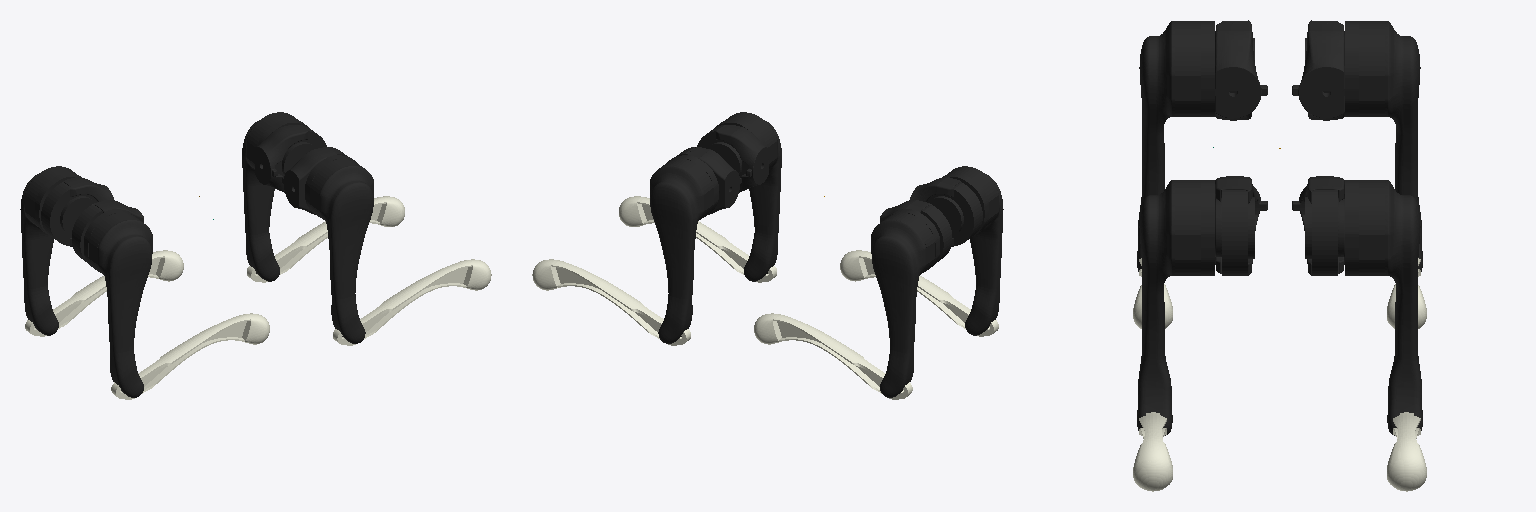
--- What the picture shows (computed from the rendered views, not written in the file) ---
The picture shows the robot from 3 angles, left to right: view 1: azimuth 30°, elevation 25°; view 2: azimuth 150°, elevation 25°; view 3: azimuth 270°, elevation 25°; orthographic projection.
Robot: go1_description — 38 links, 37 joints (12 revolute, 25 fixed); root link base; default pose: joints at zero except 4 at the middle of their limits (FR_calf_joint = -1.78, FL_calf_joint = -1.78, RR_calf_joint = -1.78, RL_calf_joint = -1.78).
Links seen in each view (by area): view 1: RR_thigh, FR_thigh, RL_thigh, FL_thigh, RR_calf, FR_calf, FL_hip, RL_hip, RL_calf, FL_calf, FR_hip, RR_hip; view 2: RL_thigh, FL_thigh, RR_thigh, FR_thigh, RL_calf, FL_calf, FR_hip, RR_hip, RR_calf, FR_calf, FL_hip, RL_hip; view 3: FR_thigh, FL_thigh, RR_thigh, RL_thigh, FR_hip, FL_hip, RR_hip, RL_hip, FR_calf, FL_calf, RR_calf, RL_calf.
Link boxes in pixels (x1,y1,x2,y2): RR_thigh: (84, 209, 152, 397); FR_thigh: (305, 155, 373, 343); RL_thigh: (20, 166, 81, 335); FL_thigh: (242, 112, 308, 281); RR_calf: (111, 313, 269, 399); FR_calf: (333, 259, 491, 345); FL_hip: (255, 125, 326, 192); RL_hip: (41, 177, 114, 246); RL_calf: (25, 250, 183, 336); FL_calf: (247, 196, 404, 282); FR_hip: (282, 147, 347, 214); RR_hip: (72, 200, 143, 262); RL_thigh: (871, 209, 939, 397); FL_thigh: (650, 155, 718, 343); RR_thigh: (942, 166, 1003, 335); FR_thigh: (715, 112, 781, 281); RL_calf: (754, 313, 912, 399); FL_calf: (532, 259, 690, 345); FR_hip: (697, 125, 768, 192); RR_hip: (909, 177, 982, 246); RR_calf: (840, 250, 998, 336); FR_calf: (619, 196, 776, 282); FL_hip: (676, 147, 741, 214); RL_hip: (880, 200, 951, 262); FR_thigh: (1137, 180, 1214, 435); FL_thigh: (1345, 180, 1422, 435); RR_thigh: (1137, 21, 1214, 271); RL_thigh: (1345, 21, 1422, 271); FR_hip: (1215, 176, 1267, 275); FL_hip: (1292, 176, 1344, 275); RR_hip: (1215, 20, 1267, 120); RL_hip: (1292, 20, 1344, 120); FR_calf: (1133, 412, 1172, 491); FL_calf: (1387, 412, 1426, 491); RR_calf: (1133, 258, 1172, 328); RL_calf: (1387, 258, 1426, 328).
Size in the robot's own frame: 0.6549 by 0.294 by 0.2793 metres.
Meshes: 6 distinct files referenced, 12 mesh visuals loaded (3 binary STL); not drawn: 9 (reference not matched to a file when rendering).

robot.urdf — go1_description:
<?xml version="1.0" ?>
<!-- =================================================================================== -->
<!-- |    This document was autogenerated by xacro from robot.xacro                    | -->
<!-- |    EDITING THIS FILE BY HAND IS NOT RECOMMENDED                                 | -->
<!-- =================================================================================== -->
<robot name="go1_description" xmlns:xacro="http://www.ros.org/wiki/xacro">
  <material name="black">
    <color rgba="0.0 0.0 0.0 1.0"/>
  </material>
  <material name="blue">
    <color rgba="0.0 0.0 0.8 1.0"/>
  </material>
  <material name="green">
    <color rgba="0.0 0.8 0.0 1.0"/>
  </material>
  <material name="grey">
    <color rgba="0.2 0.2 0.2 1.0"/>
  </material>
  <material name="silver">
    <color rgba="0.913725490196 0.913725490196 0.847058823529 1.0"/>
  </material>
  <material name="orange">
    <color rgba="1.0 0.423529411765 0.0392156862745 1.0"/>
  </material>
  <material name="brown">
    <color rgba="0.870588235294 0.811764705882 0.764705882353 1.0"/>
  </material>
  <material name="red">
    <color rgba="0.8 0.0 0.0 1.0"/>
  </material>
  <material name="white">
    <color rgba="1.0 1.0 1.0 1.0"/>
  </material>
  <!-- ros_control plugin -->
  <gazebo>
    <plugin filename="libgazebo_ros_control.so" name="gazebo_ros_control">
      <robotNamespace>/go1_gazebo</robotNamespace>
      <robotSimType>gazebo_ros_control/DefaultRobotHWSim</robotSimType>
    </plugin>
  </gazebo>
  <!-- Show the trajectory of trunk center. -->
  <gazebo>
    <plugin filename="libLinkPlot3DPlugin.so" name="3dplot">
      <frequency>10</frequency>
      <plot>
        <link>base</link>
        <pose>0 0 0 0 0 0</pose>
        <material>Gazebo/Yellow</material>
      </plot>
    </plugin>
  </gazebo>
  <!-- Show the trajectory of foot. You can add another trajectory about another foot. -->
  <!-- <gazebo>
        <plugin name="3dplot" filename="libLinkPlot3DPlugin.so">
            <frequency>100</frequency>
            <plot>
                <link>FL_foot</link>
                <pose>0 0 0 0 0 0</pose>
                <material>Gazebo/Green</material>
            </plot>
        </plugin>
    </gazebo> -->
  <gazebo>
    <plugin filename="libgazebo_ros_force.so" name="gazebo_ros_force">
      <bodyName>trunk</bodyName>
      <topicName>/apply_force/trunk</topicName>
    </plugin>
  </gazebo>
  <gazebo reference="imu_link">
    <gravity>true</gravity>
    <sensor name="imu_sensor" type="imu">
      <always_on>true</always_on>
      <update_rate>1000</update_rate>
      <visualize>true</visualize>
      <topic>__default_topic__</topic>
      <plugin filename="libgazebo_ros_imu_sensor.so" name="imu_plugin">
        <topicName>trunk_imu</topicName>
        <bodyName>imu_link</bodyName>
        <updateRateHZ>1000.0</updateRateHZ>
        <gaussianNoise>0.0</gaussianNoise>
        <xyzOffset>0 0 0</xyzOffset>
        <rpyOffset>0 0 0</rpyOffset>
        <frameName>imu_link</frameName>
      </plugin>
      <pose>0 0 0 0 0 0</pose>
    </sensor>
  </gazebo>
  <!-- Depth camera -->
  <!-- <gazebo>
        <plugin name="camera_plugin" filename="libgazebo_ros_openni_kinect.so">
            <baseline>0.025</baseline>
            <always_on>true</always_on>
            <updateRate>0.0</updateRate>
            <cameraName>unitree_camera_left</cameraName>
            <frameName>depthCamera_link_left</frameName>
            <imageTopicName>rgb/imageRaw_left</imageTopicName>
            <depthImageTopicName>depth/imageRaw_left</depthImageTopicName>
            <pointCloudTopicName>depth/points_left</pointCloudTopicName>
            <cameraInfoTopicName>rgb/cameraInfo_left</cameraInfoTopicName>              
            <depthImageCameraInfoTopicName>depth/cameraInfo_left</depthImageCameraInfoTopicName>            
            <pointCloudCutoff>0.1</pointCloudCutoff>                
            <pointCloudCutoffMax>1.5</pointCloudCutoffMax>                
            <distortionK1>0.0</distortionK1>
            <distortionK2>0.0</distortionK2>
            <distortionK3>0.0</distortionK3>
            <distortionT1>0.0</distortionT1>
            <distortionT2>0.0</distortionT2>
            <CxPrime>0.0</CxPrime>
            <Cx>0.0045</Cx>
            <Cy>0.0039</Cy>
            <focalLength>0.004</focalLength>
            <hackBaseline>0.0</hackBaseline>
        </plugin>
    </gazebo> -->
  <!-- <gazebo reference="depthCamera_link_left">
        <sensor name="unitree_camera_left" type="depth_camera">
            <update_rate>16</update_rate>
            <always_on>true</always_on>
            <visualize>true</visualize>
            <camera>
                <horizontal_fov>2.094</horizontal_fov>
                <image>
                    <width>928</width>
                    <height>800</height>
                    <format>R8G8B8</format>
                </image>
                <depth_camera></depth_camera>
                <clip>
                    <near>0.1</near>
                    <far>100</far>
                </clip>
            </camera>
            <plugin name="camera_plugin" filename="libgazebo_ros_openni_kinect.so">
                <baseline>0.025</baseline>
                <always_on>true</always_on>
                <updateRate>0.0</updateRate>
                <cameraName>unitree_camera_left</cameraName>
                <frameName>depthCamera_link_left</frameName>
                <imageTopicName>rgb/imageRaw_left</imageTopicName>
                <depthImageTopicName>depth/imageRaw_left</depthImageTopicName>
                <pointCloudTopicName>depth/points_left</pointCloudTopicName>
                <cameraInfoTopicName>rgb/cameraInfo_left</cameraInfoTopicName>              
                <depthImageCameraInfoTopicName>depth/cameraInfo_left</depthImageCameraInfoTopicName>            
                <pointCloudCutoff>0.1</pointCloudCutoff>                
                <pointCloudCutoffMax>1.5</pointCloudCutoffMax>                
                <distortionK1>0.0</distortionK1>
                <distortionK2>0.0</distortionK2>
                <distortionK3>0.0</distortionK3>
                <distortionT1>0.0</distortionT1>
                <distortionT2>0.0</distortionT2>
                <CxPrime>0.0</CxPrime>
                <Cx>0.0045</Cx>
                <Cy>0.0039</Cy>
                <focalLength>0.004</focalLength>
                <hackBaseline>0.0</hackBaseline>
            </plugin>
        </sensor>
    </gazebo> -->
  <gazebo reference="depthCamera_link_left">
    <sensor name="camera_link_camera" type="depth">
      <update_rate>20</update_rate>
      <camera>
        <horizontal_fov>1.047198</horizontal_fov>
        <image>
          <width>640</width>
          <height>480</height>
          <format>R8G8B8</format>
        </image>
        <clip>
          <near>0.05</near>
          <far>3</far>
        </clip>
      </camera>
      <plugin filename="libgazebo_ros_openni_kinect.so" name="camera_link_controller">
        <baseline>0.2</baseline>
        <alwaysOn>true</alwaysOn>
        <updateRate>1.0</updateRate>
        <cameraName>camera_link_ir</cameraName>
        <imageTopicName>/camera_link/color/image_raw</imageTopicName>
        <cameraInfoTopicName>/camera_link/color/camera_info</cameraInfoTopicName>
        <depthImageTopicName>/camera_link/depth/image_raw</depthImageTopicName>
        <depthImageInfoTopicName>/camera_link/depth/camera_info</depthImageInfoTopicName>
        <pointCloudTopicName>/camera_link/depth/points</pointCloudTopicName>
        <frameName>depthCamera_link_left</frameName>
        <pointCloudCutoff>0.5</pointCloudCutoff>
        <pointCloudCutoffMax>3.0</pointCloudCutoffMax>
        <distortionK1>0.00000001</distortionK1>
        <distortionK2>0.00000001</distortionK2>
        <distortionK3>0.00000001</distortionK3>
        <distortionT1>0.00000001</distortionT1>
        <distortionT2>0.00000001</distortionT2>
        <CxPrime>0</CxPrime>
        <Cx>0</Cx>
        <Cy>0</Cy>
        <focalLength>0</focalLength>
        <hackBaseline>0</hackBaseline>
      </plugin>
    </sensor>
  </gazebo>
  <!-- Foot contacts. -->
  <gazebo reference="FR_calf">
    <sensor name="FR_foot_contact" type="contact">
      <update_rate>100</update_rate>
      <plugin filename="libunitreeFootContactPlugin.so" name="contactPlugin"/>
      <contact>
        <collision>FR_calf_fixed_joint_lump__FR_foot_collision_1</collision>
      </contact>
    </sensor>
  </gazebo>
  <gazebo reference="FL_calf">
    <sensor name="FL_foot_contact" type="contact">
      <update_rate>100</update_rate>
      <plugin filename="libunitreeFootContactPlugin.so" name="contactPlugin"/>
      <contact>
        <collision>FL_calf_fixed_joint_lump__FL_foot_collision_1</collision>
      </contact>
    </sensor>
  </gazebo>
  <gazebo reference="RR_calf">
    <sensor name="RR_foot_contact" type="contact">
      <update_rate>100</update_rate>
      <plugin filename="libunitreeFootContactPlugin.so" name="contactPlugin"/>
      <contact>
        <collision>RR_calf_fixed_joint_lump__RR_foot_collision_1</collision>
      </contact>
    </sensor>
  </gazebo>
  <gazebo reference="RL_calf">
    <sensor name="RL_foot_contact" type="contact">
      <update_rate>100</update_rate>
      <plugin filename="libunitreeFootContactPlugin.so" name="contactPlugin"/>
      <contact>
        <collision>RL_calf_fixed_joint_lump__RL_foot_collision_1</collision>
      </contact>
    </sensor>
  </gazebo>
  <!-- Visualization of Foot contacts. -->
  <gazebo reference="FR_foot">
    <visual>
      <plugin filename="libunitreeDrawForcePlugin.so" name="drawForcePlugin">
        <topicName>FR_foot_contact</topicName>
      </plugin>
    </visual>
  </gazebo>
  <gazebo reference="FL_foot">
    <visual>
      <plugin filename="libunitreeDrawForcePlugin.so" name="drawForcePlugin">
        <topicName>FL_foot_contact</topicName>
      </plugin>
    </visual>
  </gazebo>
  <gazebo reference="RR_foot">
    <visual>
      <plugin filename="libunitreeDrawForcePlugin.so" name="drawForcePlugin">
        <topicName>RR_foot_contact</topicName>
      </plugin>
    </visual>
  </gazebo>
  <gazebo reference="RL_foot">
    <visual>
      <plugin filename="libunitreeDrawForcePlugin.so" name="drawForcePlugin">
        <topicName>RL_foot_contact</topicName>
      </plugin>
    </visual>
  </gazebo>
  <gazebo reference="base">
    <material>Gazebo/Green</material>
    <turnGravityOff>false</turnGravityOff>
  </gazebo>
  <gazebo reference="trunk">
    <mu1>0.2</mu1>
    <mu2>0.2</mu2>
    <kp value="1000000.0"/>
    <kd value="1.0"/>
  </gazebo>
  <gazebo reference="stick_link">
    <mu1>0.2</mu1>
    <mu2>0.2</mu2>
    <material>Gazebo/White</material>
  </gazebo>
  <gazebo reference="imu_link">
    <mu1>0.2</mu1>
    <mu2>0.2</mu2>
    <material>Gazebo/Red</material>
  </gazebo>
  <!-- FL leg -->
  <gazebo reference="FL_hip">
    <mu1>0.2</mu1>
    <mu2>0.2</mu2>
    <material>Gazebo/DarkGrey</material>
  </gazebo>
  <gazebo reference="FL_thigh">
    <mu1>0.2</mu1>
    <mu2>0.2</mu2>
    <self_collide>1</self_collide>
    <material>Gazebo/DarkGrey</material>
    <kp value="1000000.0"/>
    <kd value="1.0"/>
  </gazebo>
  <gazebo reference="FL_calf">
    <mu1>0.2</mu1>
    <mu2>0.2</mu2>
    <self_collide>1</self_collide>
  </gazebo>
  <gazebo reference="FL_foot">
    <mu1>0.6</mu1>
    <mu2>0.6</mu2>
    <self_collide>1</self_collide>
    <material>Gazebo/DarkGrey</material>
    <kp value="1000000.0"/>
    <kd value="1.0"/>
  </gazebo>
  <!-- FR leg -->
  <gazebo reference="FR_hip">
    <mu1>0.2</mu1>
    <mu2>0.2</mu2>
    <material>Gazebo/DarkGrey</material>
  </gazebo>
  <gazebo reference="FR_thigh">
    <mu1>0.2</mu1>
    <mu2>0.2</mu2>
    <self_collide>1</self_collide>
    <material>Gazebo/DarkGrey</material>
    <kp value="1000000.0"/>
    <kd value="1.0"/>
  </gazebo>
  <gazebo reference="FR_calf">
    <mu1>0.2</mu1>
    <mu2>0.2</mu2>
    <self_collide>1</self_collide>
  </gazebo>
  <gazebo reference="FR_foot">
    <mu1>0.6</mu1>
    <mu2>0.6</mu2>
    <self_collide>1</self_collide>
    <material>Gazebo/DarkGrey</material>
    <kp value="1000000.0"/>
    <kd value="1.0"/>
  </gazebo>
  <!-- RL leg -->
  <gazebo reference="RL_hip">
    <mu1>0.2</mu1>
    <mu2>0.2</mu2>
    <material>Gazebo/DarkGrey</material>
  </gazebo>
  <gazebo reference="RL_thigh">
    <mu1>0.2</mu1>
    <mu2>0.2</mu2>
    <self_collide>1</self_collide>
    <material>Gazebo/DarkGrey</material>
    <kp value="1000000.0"/>
    <kd value="1.0"/>
  </gazebo>
  <gazebo reference="RL_calf">
    <mu1>0.2</mu1>
    <mu2>0.2</mu2>
    <self_collide>1</self_collide>
  </gazebo>
  <gazebo reference="RL_foot">
    <mu1>0.6</mu1>
    <mu2>0.6</mu2>
    <self_collide>1</self_collide>
    <material>Gazebo/DarkGrey</material>
    <kp value="1000000.0"/>
    <kd value="1.0"/>
  </gazebo>
  <!-- RR leg -->
  <gazebo reference="RR_hip">
    <mu1>0.2</mu1>
    <mu2>0.2</mu2>
    <material>Gazebo/DarkGrey</material>
  </gazebo>
  <gazebo reference="RR_thigh">
    <mu1>0.2</mu1>
    <mu2>0.2</mu2>
    <self_collide>1</self_collide>
    <material>Gazebo/DarkGrey</material>
    <kp value="1000000.0"/>
    <kd value="1.0"/>
  </gazebo>
  <gazebo reference="RR_calf">
    <mu1>0.2</mu1>
    <mu2>0.2</mu2>
    <self_collide>1</self_collide>
  </gazebo>
  <gazebo reference="RR_foot">
    <mu1>0.6</mu1>
    <mu2>0.6</mu2>
    <self_collide>1</self_collide>
    <material>Gazebo/DarkGrey</material>
    <kp value="1000000.0"/>
    <kd value="1.0"/>
  </gazebo>
  <!-- <xacro:include filename="$(find go1_gazebo)/launch/stairs.urdf.xacro"/> -->
  <!-- <xacro:stairs stairs="15" xpos="0" ypos="0" zpos="0" /> -->
  <!-- Debug mode will hung up the robot, use "true" or "false" to switch it. -->
  <!-- <xacro:if value="$(arg DEBUG)">
        <link name="world"/>
        <joint name="base_static_joint" type="fixed">
            <origin rpy="0 0 0" xyz="0 0 0"/>
            <parent link="world"/>
            <child link="base"/>
        </joint>
    </xacro:if>  -->
  <link name="base">
    <visual>
      <origin rpy="0 0 0" xyz="0 0 0"/>
      <geometry>
        <box size="0.001 0.001 0.001"/>
      </geometry>
    </visual>
  </link>
  <joint name="floating_base" type="fixed">
    <origin rpy="0 0 0" xyz="0 0 0"/>
    <parent link="base"/>
    <child link="trunk"/>
  </joint>
  <link name="trunk">
    <visual>
      <origin rpy="0 0 0" xyz="0 0 0"/>
      <geometry>
        <mesh filename="package://meshes/trunk.stl" scale="1 1 1"/>
      </geometry>
      <material name="silver"/>
    </visual>
    <collision>
      <origin rpy="0 0 0" xyz="0 0 0"/>
      <geometry>
        <box size="0.3762 0.0935 0.114"/>
      </geometry>
    </collision>
    <inertial>
      <origin rpy="0 0 0" xyz="0.0223 0.002 -0.0005"/>
      <mass value="5.204"/>
      <inertia ixx="0.0168352186" ixy="0.0004636141" ixz="0.0002367952" iyy="0.0656071082" iyz="3.6671e-05" izz="0.0742720659"/>
    </inertial>
  </link>
  <joint name="imu_joint" type="fixed">
    <parent link="trunk"/>
    <child link="imu_link"/>
    <origin rpy="0 0 0" xyz="-0.01592 -0.06659 -0.00617"/>
  </joint>
  <link name="imu_link">
    <inertial>
      <mass value="0.001"/>
      <origin rpy="0 0 0" xyz="0 0 0"/>
      <inertia ixx="0.0001" ixy="0" ixz="0" iyy="0.0001" iyz="0" izz="0.0001"/>
    </inertial>
    <visual>
      <origin rpy="0 0 0" xyz="0 0 0"/>
      <geometry>
        <box size="0.001 0.001 0.001"/>
      </geometry>
      <!-- <material name="red"/> -->
    </visual>
    <collision>
      <origin rpy="0 0 0" xyz="0 0 0"/>
      <geometry>
        <box size=".001 .001 .001"/>
      </geometry>
    </collision>
  </link>
  <joint name="FR_hip_joint" type="revolute">
    <origin rpy="0 0 0" xyz="0.1881 -0.04675 0"/>
    <parent link="trunk"/>
    <child link="FR_hip"/>
    <axis xyz="1 0 0"/>
    <dynamics damping="0.01" friction="0.2"/>
    <limit effort="23.7" lower="-1.0471975512" upper="1.0471975512" velocity="30.1"/>
  </joint>
  <link name="FR_hip">
    <visual>
      <origin rpy="3.14159265359 0 0" xyz="0 0 0"/>
      <geometry>
        <mesh filename="package://meshes/hip.stl" scale="1 1 1"/>
      </geometry>
      <material name="grey"/>
    </visual>
    <collision>
      <origin rpy="1.57079632679 0 0" xyz="0 0 0"/>
      <geometry>
        <cylinder length="0.04" radius="0.046"/>
      </geometry>
    </collision>
    <inertial>
      <origin rpy="0 0 0" xyz="-0.00541 0.00074 6e-06"/>
      <mass value="0.591"/>
      <inertia ixx="0.000374268192" ixy="-3.6844422e-05" ixz="-9.86754e-07" iyy="0.000635923669" iyz="1.172894e-06" izz="0.000457647394"/>
    </inertial>
  </link>
  <joint name="FR_hip_fixed" type="fixed">
    <origin rpy="0 0 0" xyz="0 -0.08 0"/>
    <parent link="FR_hip"/>
    <child link="FR_thigh_shoulder"/>
  </joint>
  <!-- this link is only for collision -->
  <link name="FR_thigh_shoulder">
    <collision>
      <origin rpy="1.57079632679 0 0" xyz="0 0 0"/>
      <geometry>
        <cylinder length="0.032" radius="0.041"/>
      </geometry>
    </collision>
  </link>
  <joint name="FR_thigh_joint" type="revolute">
    <origin rpy="0 0 0" xyz="0 -0.08 0"/>
    <parent link="FR_hip"/>
    <child link="FR_thigh"/>
    <axis xyz="0 1 0"/>
    <dynamics damping="0.01" friction="0.2"/>
    <limit effort="23.7" lower="-0.663225115758" upper="2.96705972839" velocity="30.1"/>
  </joint>
  <link name="FR_thigh">
    <visual>
      <origin rpy="0 0 0" xyz="0 0 0"/>
      <geometry>
        <mesh filename="package://meshes/thigh.stl" scale="1 -1 1"/>
      </geometry>
      <material name="grey"/>
    </visual>
    <collision>
      <origin rpy="0 1.57079632679 0" xyz="0 0 -0.1065"/>
      <geometry>
        <box size="0.213 0.0245 0.034"/>
      </geometry>
    </collision>
    <inertial>
      <origin rpy="0 0 0" xyz="-0.003468 0.018947 -0.032736"/>
      <mass value="0.92"/>
      <inertia ixx="0.005851561134" ixy="-1.783284e-06" ixz="0.000328291374" iyy="0.005596155105" iyz="-2.1430713e-05" izz="0.00107157026"/>
    </inertial>
  </link>
  <joint name="FR_calf_joint" type="revolute">
    <origin rpy="0 0 0" xyz="0 0 -0.213"/>
    <parent link="FR_thigh"/>
    <child link="FR_calf"/>
    <axis xyz="0 1 0"/>
    <dynamics damping="0.01" friction="0.2"/>
    <limit effort="23.7" lower="-2.72271363311" upper="-0.837758040957" velocity="30.1"/>
  </joint>
  <link name="FR_calf">
    <visual>
      <origin rpy="0 0 0" xyz="0 0 0"/>
      <geometry>
        <mesh filename="package://meshes/calf.stl" scale="1 1 1"/>
      </geometry>
      <material name="silver"/>
    </visual>
    <collision>
      <origin rpy="0 1.57079632679 0" xyz="0 0 -0.1065"/>
      <geometry>
        <box size="0.213 0.016 0.016"/>
      </geometry>
    </collision>
    <inertial>
      <origin rpy="0 0 0" xyz="0.006286 0.001307 -0.122269"/>
      <mass value="0.131"/>
      <inertia ixx="0.002939186297" ixy="1.440899e-06" ixz="-0.00010535955" iyy="0.00295576935" iyz="-2.4397752e-05" izz="3.0273372e-05"/>
    </inertial>
  </link>
  <joint name="FR_foot_fixed" type="fixed">
    <origin rpy="0 0 0" xyz="0 0 -0.213"/>
    <parent link="FR_calf"/>
    <child link="FR_foot"/>
  </joint>
  <link name="FR_foot">
    <visual>
      <origin rpy="0 0 0" xyz="0 0 0"/>
      <geometry>
        <sphere radius="0.01"/>
      </geometry>
      <material name="orange"/>
    </visual>
    <collision>
      <origin rpy="0 0 0" xyz="0 0 0"/>
      <geometry>
        <sphere radius="0.02"/>
      </geometry>
    </collision>
    <inertial>
      <mass value="0.06"/>
      <inertia ixx="9.6e-06" ixy="0.0" ixz="0.0" iyy="9.6e-06" iyz="0.0" izz="9.6e-06"/>
    </inertial>
  </link>
  <transmission name="FR_hip_tran">
    <type>transmission_interface/SimpleTransmission</type>
    <joint name="FR_hip_joint">
      <hardwareInterface>hardware_interface/EffortJointInterface</hardwareInterface>
    </joint>
    <actuator name="FR_hip_motor">
      <hardwareInterface>hardware_interface/EffortJointInterface</hardwareInterface>
      <mechanicalReduction>1</mechanicalReduction>
    </actuator>
  </transmission>
  <transmission name="FR_thigh_tran">
    <type>transmission_interface/SimpleTransmission</type>
    <joint name="FR_thigh_joint">
      <hardwareInterface>hardware_interface/EffortJointInterface</hardwareInterface>
    </joint>
    <actuator name="FR_thigh_motor">
      <hardwareInterface>hardware_interface/EffortJointInterface</hardwareInterface>
      <mechanicalReduction>1</mechanicalReduction>
    </actuator>
  </transmission>
  <transmission name="FR_calf_tran">
    <type>transmission_interface/SimpleTransmission</type>
    <joint name="FR_calf_joint">
      <hardwareInterface>hardware_interface/EffortJointInterface</hardwareInterface>
    </joint>
    <actuator name="FR_calf_motor">
      <hardwareInterface>hardware_interface/EffortJointInterface</hardwareInterface>
      <mechanicalReduction>1</mechanicalReduction>
    </actuator>
  </transmission>
  <joint name="FL_hip_joint" type="revolute">
    <origin rpy="0 0 0" xyz="0.1881 0.04675 0"/>
    <parent link="trunk"/>
    <child link="FL_hip"/>
    <axis xyz="1 0 0"/>
    <dynamics damping="0.01" friction="0.2"/>
    <limit effort="23.7" lower="-1.0471975512" upper="1.0471975512" velocity="30.1"/>
  </joint>
  <link name="FL_hip">
    <visual>
      <origin rpy="0 0 0" xyz="0 0 0"/>
      <geometry>
        <mesh filename="package://meshes/hip.stl" scale="1 1 1"/>
      </geometry>
      <material name="grey"/>
    </visual>
    <collision>
      <origin rpy="1.57079632679 0 0" xyz="0 0 0"/>
      <geometry>
        <cylinder length="0.04" radius="0.046"/>
      </geometry>
    </collision>
    <inertial>
      <origin rpy="0 0 0" xyz="-0.00541 -0.00074 6e-06"/>
      <mass value="0.591"/>
      <inertia ixx="0.000374268192" ixy="3.6844422e-05" ixz="-9.86754e-07" iyy="0.000635923669" iyz="-1.172894e-06" izz="0.000457647394"/>
    </inertial>
  </link>
  <joint name="FL_hip_fixed" type="fixed">
    <origin rpy="0 0 0" xyz="0 0.08 0"/>
    <parent link="FL_hip"/>
    <child link="FL_thigh_shoulder"/>
  </joint>
  <!-- this link is only for collision -->
  <link name="FL_thigh_shoulder">
    <collision>
      <origin rpy="1.57079632679 0 0" xyz="0 0 0"/>
      <geometry>
        <cylinder length="0.032" radius="0.041"/>
      </geometry>
    </collision>
  </link>
  <joint name="FL_thigh_joint" type="revolute">
    <origin rpy="0 0 0" xyz="0 0.08 0"/>
    <parent link="FL_hip"/>
    <child link="FL_thigh"/>
    <axis xyz="0 1 0"/>
    <dynamics damping="0.01" friction="0.2"/>
    <limit effort="23.7" lower="-0.663225115758" upper="2.96705972839" velocity="30.1"/>
  </joint>
  <link name="FL_thigh">
    <visual>
      <origin rpy="0 0 0" xyz="0 0 0"/>
      <geometry>
        <mesh filename="package://meshes/thigh.stl" scale="1 1 1"/>
      </geometry>
      <material name="grey"/>
    </visual>
    <collision>
      <origin rpy="0 1.57079632679 0" xyz="0 0 -0.1065"/>
      <geometry>
        <box size="0.213 0.0245 0.034"/>
      </geometry>
    </collision>
    <inertial>
      <origin rpy="0 0 0" xyz="-0.003468 -0.018947 -0.032736"/>
      <mass value="0.92"/>
      <inertia ixx="0.005851561134" ixy="1.783284e-06" ixz="0.000328291374" iyy="0.005596155105" iyz="2.1430713e-05" izz="0.00107157026"/>
    </inertial>
  </link>
  <joint name="FL_calf_joint" type="revolute">
    <origin rpy="0 0 0" xyz="0 0 -0.213"/>
    <parent link="FL_thigh"/>
    <child link="FL_calf"/>
    <axis xyz="0 1 0"/>
    <dynamics damping="0.01" friction="0.2"/>
    <limit effort="23.7" lower="-2.72271363311" upper="-0.837758040957" velocity="30.1"/>
  </joint>
  <link name="FL_calf">
    <visual>
      <origin rpy="0 0 0" xyz="0 0 0"/>
      <geometry>
        <mesh filename="package://meshes/calf.stl" scale="1 1 1"/>
      </geometry>
      <material name="silver"/>
    </visual>
    <collision>
      <origin rpy="0 1.57079632679 0" xyz="0 0 -0.1065"/>
      <geometry>
        <box size="0.213 0.016 0.016"/>
      </geometry>
    </collision>
    <inertial>
      <origin rpy="0 0 0" xyz="0.006286 0.001307 -0.122269"/>
      <mass value="0.131"/>
      <inertia ixx="0.002939186297" ixy="1.440899e-06" ixz="-0.00010535955" iyy="0.00295576935" iyz="-2.4397752e-05" izz="3.0273372e-05"/>
    </inertial>
  </link>
  <joint name="FL_foot_fixed" type="fixed">
    <origin rpy="0 0 0" xyz="0 0 -0.213"/>
    <parent link="FL_calf"/>
    <child link="FL_foot"/>
  </joint>
  <link name="FL_foot">
    <visual>
      <origin rpy="0 0 0" xyz="0 0 0"/>
      <geometry>
        <sphere radius="0.01"/>
      </geometry>
      <material name="orange"/>
    </visual>
    <collision>
      <origin rpy="0 0 0" xyz="0 0 0"/>
      <geometry>
        <sphere radius="0.02"/>
      </geometry>
    </collision>
    <inertial>
      <mass value="0.06"/>
      <inertia ixx="9.6e-06" ixy="0.0" ixz="0.0" iyy="9.6e-06" iyz="0.0" izz="9.6e-06"/>
    </inertial>
  </link>
  <transmission name="FL_hip_tran">
    <type>transmission_interface/SimpleTransmission</type>
    <joint name="FL_hip_joint">
      <hardwareInterface>hardware_interface/EffortJointInterface</hardwareInterface>
    </joint>
    <actuator name="FL_hip_motor">
      <hardwareInterface>hardware_interface/EffortJointInterface</hardwareInterface>
      <mechanicalReduction>1</mechanicalReduction>
    </actuator>
  </transmission>
  <transmission name="FL_thigh_tran">
    <type>transmission_interface/SimpleTransmission</type>
    <joint name="FL_thigh_joint">
      <hardwareInterface>hardware_interface/EffortJointInterface</hardwareInterface>
    </joint>
    <actuator name="FL_thigh_motor">
      <hardwareInterface>hardware_interface/EffortJointInterface</hardwareInterface>
      <mechanicalReduction>1</mechanicalReduction>
    </actuator>
  </transmission>
  <transmission name="FL_calf_tran">
    <type>transmission_interface/SimpleTransmission</type>
    <joint name="FL_calf_joint">
      <hardwareInterface>hardware_interface/EffortJointInterface</hardwareInterface>
    </joint>
    <actuator name="FL_calf_motor">
      <hardwareInterface>hardware_interface/EffortJointInterface</hardwareInterface>
      <mechanicalReduction>1</mechanicalReduction>
    </actuator>
  </transmission>
  <joint name="RR_hip_joint" type="revolute">
    <origin rpy="0 0 0" xyz="-0.1881 -0.04675 0"/>
    <parent link="trunk"/>
    <child link="RR_hip"/>
    <axis xyz="1 0 0"/>
    <dynamics damping="0.01" friction="0.2"/>
    <limit effort="23.7" lower="-1.0471975512" upper="1.0471975512" velocity="30.1"/>
  </joint>
  <link name="RR_hip">
    <visual>
      <origin rpy="3.14159265359 3.14159265359 0" xyz="0 0 0"/>
      <geometry>
        <mesh filename="package://meshes/hip.stl" scale="1 1 1"/>
      </geometry>
      <material name="grey"/>
    </visual>
    <collision>
      <origin rpy="1.57079632679 0 0" xyz="0 0 0"/>
      <geometry>
        <cylinder length="0.04" radius="0.046"/>
      </geometry>
    </collision>
    <inertial>
      <origin rpy="0 0 0" xyz="0.00541 0.00074 6e-06"/>
      <mass value="0.591"/>
      <inertia ixx="0.000374268192" ixy="3.6844422e-05" ixz="9.86754e-07" iyy="0.000635923669" iyz="1.172894e-06" izz="0.000457647394"/>
    </inertial>
  </link>
  <joint name="RR_hip_fixed" type="fixed">
    <origin rpy="0 0 0" xyz="0 -0.08 0"/>
    <parent link="RR_hip"/>
    <child link="RR_thigh_shoulder"/>
  </joint>
  <!-- this link is only for collision -->
  <link name="RR_thigh_shoulder">
    <collision>
      <origin rpy="1.57079632679 0 0" xyz="0 0 0"/>
      <geometry>
        <cylinder length="0.032" radius="0.041"/>
      </geometry>
    </collision>
  </link>
  <joint name="RR_thigh_joint" type="revolute">
    <origin rpy="0 0 0" xyz="0 -0.08 0"/>
    <parent link="RR_hip"/>
    <child link="RR_thigh"/>
    <axis xyz="0 1 0"/>
    <dynamics damping="0.01" friction="0.2"/>
    <limit effort="23.7" lower="-0.663225115758" upper="2.96705972839" velocity="30.1"/>
  </joint>
  <link name="RR_thigh">
    <visual>
      <origin rpy="0 0 0" xyz="0 0 0"/>
      <geometry>
        <mesh filename="package://meshes/thigh.stl" scale="1 -1 1"/>
      </geometry>
      <material name="grey"/>
    </visual>
    <collision>
      <origin rpy="0 1.57079632679 0" xyz="0 0 -0.1065"/>
      <geometry>
        <box size="0.213 0.0245 0.034"/>
      </geometry>
    </collision>
    <inertial>
      <origin rpy="0 0 0" xyz="-0.003468 0.018947 -0.032736"/>
      <mass value="0.92"/>
      <inertia ixx="0.005851561134" ixy="-1.783284e-06" ixz="0.000328291374" iyy="0.005596155105" iyz="-2.1430713e-05" izz="0.00107157026"/>
    </inertial>
  </link>
  <joint name="RR_calf_joint" type="revolute">
    <origin rpy="0 0 0" xyz="0 0 -0.213"/>
    <parent link="RR_thigh"/>
    <child link="RR_calf"/>
    <axis xyz="0 1 0"/>
    <dynamics damping="0.01" friction="0.2"/>
    <limit effort="23.7" lower="-2.72271363311" upper="-0.837758040957" velocity="30.1"/>
  </joint>
  <link name="RR_calf">
    <visual>
      <origin rpy="0 0 0" xyz="0 0 0"/>
      <geometry>
        <mesh filename="package://meshes/calf.stl" scale="1 1 1"/>
      </geometry>
      <material name="silver"/>
    </visual>
    <collision>
      <origin rpy="0 1.57079632679 0" xyz="0 0 -0.1065"/>
      <geometry>
        <box size="0.213 0.016 0.016"/>
      </geometry>
    </collision>
    <inertial>
      <origin rpy="0 0 0" xyz="0.006286 0.001307 -0.122269"/>
      <mass value="0.131"/>
      <inertia ixx="0.002939186297" ixy="1.440899e-06" ixz="-0.00010535955" iyy="0.00295576935" iyz="-2.4397752e-05" izz="3.0273372e-05"/>
    </inertial>
  </link>
  <joint name="RR_foot_fixed" type="fixed">
    <origin rpy="0 0 0" xyz="0 0 -0.213"/>
    <parent link="RR_calf"/>
    <child link="RR_foot"/>
  </joint>
  <link name="RR_foot">
    <visual>
      <origin rpy="0 0 0" xyz="0 0 0"/>
      <geometry>
        <sphere radius="0.01"/>
      </geometry>
      <material name="orange"/>
    </visual>
    <collision>
      <origin rpy="0 0 0" xyz="0 0 0"/>
      <geometry>
        <sphere radius="0.02"/>
      </geometry>
    </collision>
    <inertial>
      <mass value="0.06"/>
      <inertia ixx="9.6e-06" ixy="0.0" ixz="0.0" iyy="9.6e-06" iyz="0.0" izz="9.6e-06"/>
    </inertial>
  </link>
  <transmission name="RR_hip_tran">
    <type>transmission_interface/SimpleTransmission</type>
    <joint name="RR_hip_joint">
      <hardwareInterface>hardware_interface/EffortJointInterface</hardwareInterface>
    </joint>
    <actuator name="RR_hip_motor">
      <hardwareInterface>hardware_interface/EffortJointInterface</hardwareInterface>
      <mechanicalReduction>1</mechanicalReduction>
    </actuator>
  </transmission>
  <transmission name="RR_thigh_tran">
    <type>transmission_interface/SimpleTransmission</type>
    <joint name="RR_thigh_joint">
      <hardwareInterface>hardware_interface/EffortJointInterface</hardwareInterface>
    </joint>
    <actuator name="RR_thigh_motor">
      <hardwareInterface>hardware_interface/EffortJointInterface</hardwareInterface>
      <mechanicalReduction>1</mechanicalReduction>
    </actuator>
  </transmission>
  <transmission name="RR_calf_tran">
    <type>transmission_interface/SimpleTransmission</type>
    <joint name="RR_calf_joint">
      <hardwareInterface>hardware_interface/EffortJointInterface</hardwareInterface>
    </joint>
    <actuator name="RR_calf_motor">
      <hardwareInterface>hardware_interface/EffortJointInterface</hardwareInterface>
      <mechanicalReduction>1</mechanicalReduction>
    </actuator>
  </transmission>
  <joint name="RL_hip_joint" type="revolute">
    <origin rpy="0 0 0" xyz="-0.1881 0.04675 0"/>
    <parent link="trunk"/>
    <child link="RL_hip"/>
    <axis xyz="1 0 0"/>
    <dynamics damping="0.01" friction="0.2"/>
    <limit effort="23.7" lower="-1.0471975512" upper="1.0471975512" velocity="30.1"/>
  </joint>
  <link name="RL_hip">
    <visual>
      <origin rpy="0 3.14159265359 0" xyz="0 0 0"/>
      <geometry>
        <mesh filename="package://meshes/hip.stl" scale="1 1 1"/>
      </geometry>
      <material name="grey"/>
    </visual>
    <collision>
      <origin rpy="1.57079632679 0 0" xyz="0 0 0"/>
      <geometry>
        <cylinder length="0.04" radius="0.046"/>
      </geometry>
    </collision>
    <inertial>
      <origin rpy="0 0 0" xyz="0.00541 -0.00074 6e-06"/>
      <mass value="0.591"/>
      <inertia ixx="0.000374268192" ixy="-3.6844422e-05" ixz="9.86754e-07" iyy="0.000635923669" iyz="-1.172894e-06" izz="0.000457647394"/>
    </inertial>
  </link>
  <joint name="RL_hip_fixed" type="fixed">
    <origin rpy="0 0 0" xyz="0 0.08 0"/>
    <parent link="RL_hip"/>
    <child link="RL_thigh_shoulder"/>
  </joint>
  <!-- this link is only for collision -->
  <link name="RL_thigh_shoulder">
    <collision>
      <origin rpy="1.57079632679 0 0" xyz="0 0 0"/>
      <geometry>
        <cylinder length="0.032" radius="0.041"/>
      </geometry>
    </collision>
  </link>
  <joint name="RL_thigh_joint" type="revolute">
    <origin rpy="0 0 0" xyz="0 0.08 0"/>
    <parent link="RL_hip"/>
    <child link="RL_thigh"/>
    <axis xyz="0 1 0"/>
    <dynamics damping="0.01" friction="0.2"/>
    <limit effort="23.7" lower="-0.663225115758" upper="2.96705972839" velocity="30.1"/>
  </joint>
  <link name="RL_thigh">
    <visual>
      <origin rpy="0 0 0" xyz="0 0 0"/>
      <geometry>
        <mesh filename="package://meshes/thigh.stl" scale="1 1 1"/>
      </geometry>
      <material name="grey"/>
    </visual>
    <collision>
      <origin rpy="0 1.57079632679 0" xyz="0 0 -0.1065"/>
      <geometry>
        <box size="0.213 0.0245 0.034"/>
      </geometry>
    </collision>
    <inertial>
      <origin rpy="0 0 0" xyz="-0.003468 -0.018947 -0.032736"/>
      <mass value="0.92"/>
      <inertia ixx="0.005851561134" ixy="1.783284e-06" ixz="0.000328291374" iyy="0.005596155105" iyz="2.1430713e-05" izz="0.00107157026"/>
    </inertial>
  </link>
  <joint name="RL_calf_joint" type="revolute">
    <origin rpy="0 0 0" xyz="0 0 -0.213"/>
    <parent link="RL_thigh"/>
    <child link="RL_calf"/>
    <axis xyz="0 1 0"/>
    <dynamics damping="0.01" friction="0.2"/>
    <limit effort="23.7" lower="-2.72271363311" upper="-0.837758040957" velocity="30.1"/>
  </joint>
  <link name="RL_calf">
    <visual>
      <origin rpy="0 0 0" xyz="0 0 0"/>
      <geometry>
        <mesh filename="package://meshes/calf.stl" scale="1 1 1"/>
      </geometry>
      <material name="silver"/>
    </visual>
    <collision>
      <origin rpy="0 1.57079632679 0" xyz="0 0 -0.1065"/>
      <geometry>
        <box size="0.213 0.016 0.016"/>
      </geometry>
    </collision>
    <inertial>
      <origin rpy="0 0 0" xyz="0.006286 0.001307 -0.122269"/>
      <mass value="0.131"/>
      <inertia ixx="0.002939186297" ixy="1.440899e-06" ixz="-0.00010535955" iyy="0.00295576935" iyz="-2.4397752e-05" izz="3.0273372e-05"/>
    </inertial>
  </link>
  <joint name="RL_foot_fixed" type="fixed">
    <origin rpy="0 0 0" xyz="0 0 -0.213"/>
    <parent link="RL_calf"/>
    <child link="RL_foot"/>
  </joint>
  <link name="RL_foot">
    <visual>
      <origin rpy="0 0 0" xyz="0 0 0"/>
      <geometry>
        <sphere radius="0.01"/>
      </geometry>
      <material name="orange"/>
    </visual>
    <collision>
      <origin rpy="0 0 0" xyz="0 0 0"/>
      <geometry>
        <sphere radius="0.02"/>
      </geometry>
    </collision>
    <inertial>
      <mass value="0.06"/>
      <inertia ixx="9.6e-06" ixy="0.0" ixz="0.0" iyy="9.6e-06" iyz="0.0" izz="9.6e-06"/>
    </inertial>
  </link>
  <transmission name="RL_hip_tran">
    <type>transmission_interface/SimpleTransmission</type>
    <joint name="RL_hip_joint">
      <hardwareInterface>hardware_interface/EffortJointInterface</hardwareInterface>
    </joint>
    <actuator name="RL_hip_motor">
      <hardwareInterface>hardware_interface/EffortJointInterface</hardwareInterface>
      <mechanicalReduction>1</mechanicalReduction>
    </actuator>
  </transmission>
  <transmission name="RL_thigh_tran">
    <type>transmission_interface/SimpleTransmission</type>
    <joint name="RL_thigh_joint">
      <hardwareInterface>hardware_interface/EffortJointInterface</hardwareInterface>
    </joint>
    <actuator name="RL_thigh_motor">
      <hardwareInterface>hardware_interface/EffortJointInterface</hardwareInterface>
      <mechanicalReduction>1</mechanicalReduction>
    </actuator>
  </transmission>
  <transmission name="RL_calf_tran">
    <type>transmission_interface/SimpleTransmission</type>
    <joint name="RL_calf_joint">
      <hardwareInterface>hardware_interface/EffortJointInterface</hardwareInterface>
    </joint>
    <actuator name="RL_calf_motor">
      <hardwareInterface>hardware_interface/EffortJointInterface</hardwareInterface>
      <mechanicalReduction>1</mechanicalReduction>
    </actuator>
  </transmission>
  <joint name="camera_joint_face" type="fixed">
    <origin rpy="3.14159265359 0 0" xyz="0.2785 0.0125 0.0167"/>
    <parent link="trunk"/>
    <child link="camera_face"/>
  </joint>
  <link name="camera_face">
    <collision>
      <origin rpy="0 0 0" xyz="0 0 0"/>
      <geometry>
        <box size=".001 .001 .001"/>
      </geometry>
    </collision>
    <visual>
      <origin rpy="0 0 0" xyz="0 0 0"/>
      <geometry>
        <mesh filename="package://meshes/depthCamera.dae" scale="1 1 1"/>
      </geometry>
    </visual>
    <inertial>
      <mass value="1e-5"/>
      <origin rpy="0 0 0" xyz="0 0 0"/>
      <inertia ixx="1e-6" ixy="0" ixz="0" iyy="1e-6" iyz="0" izz="1e-6"/>
    </inertial>
  </link>
  <joint name="camera_optical_joint_face" type="fixed">
    <origin rpy="-1.57079632679 0 -1.57079632679" xyz="0 0 0"/>
    <parent link="camera_face"/>
    <child link="camera_optical_face"/>
  </joint>
  <link name="camera_optical_face">
        </link>
  <gazebo reference="camera_face">
    <!-- <material>Gazebo/Black</material> -->
    <sensor name="camera_face_camera" type="depth">
      <update_rate>16</update_rate>
      <camera>
        <horizontal_fov>2.094</horizontal_fov>
        <image>
          <width>928</width>
          <height>800</height>
          <format>R8G8B8</format>
        </image>
        <clip>
          <near>0.1</near>
          <far>5</far>
        </clip>
      </camera>
      <plugin filename="libgazebo_ros_openni_kinect.so" name="camera_face_controller">
        <baseline>0.025</baseline>
        <alwaysOn>true</alwaysOn>
        <updateRate>0.0</updateRate>
        <cameraName>camera_face_ir</cameraName>
        <imageTopicName>/camera_face/color/image_raw</imageTopicName>
        <cameraInfoTopicName>/camera_face/color/camera_info</cameraInfoTopicName>
        <depthImageTopicName>/camera_face/depth/image_raw</depthImageTopicName>
        <depthImageInfoTopicName>/camera_face/depth/camera_info</depthImageInfoTopicName>
        <!-- <pointCloudTopicName>/camera_${name}/depth/points</pointCloudTopicName> -->
        <pointCloudTopicName>/cam1/point_cloud_face</pointCloudTopicName>
        <frameName>camera_optical_face</frameName>
        <pointCloudCutoff>0.1</pointCloudCutoff>
        <pointCloudCutoffMax>1.5</pointCloudCutoffMax>
        <distortionK1>0.0</distortionK1>
        <distortionK2>0.0</distortionK2>
        <distortionK3>0.0</distortionK3>
        <distortionT1>0.0</distortionT1>
        <distortionT2>0.0</distortionT2>
        <CxPrime>0</CxPrime>
        <Cx>0.0045</Cx>
        <Cy>0.0039</Cy>
        <focalLength>0</focalLength>
        <hackBaseline>0</hackBaseline>
      </plugin>
    </sensor>
  </gazebo>
  <joint name="camera_joint_chin" type="fixed">
    <origin rpy="3.14159265359 1.57079632679 0" xyz="0.2522 0.0125 -0.0436"/>
    <parent link="trunk"/>
    <child link="camera_chin"/>
  </joint>
  <link name="camera_chin">
    <collision>
      <origin rpy="0 0 0" xyz="0 0 0"/>
      <geometry>
        <box size=".001 .001 .001"/>
      </geometry>
    </collision>
    <visual>
      <origin rpy="0 0 0" xyz="0 0 0"/>
      <geometry>
        <mesh filename="package://meshes/depthCamera.dae" scale="1 1 1"/>
      </geometry>
    </visual>
    <inertial>
      <mass value="1e-5"/>
      <origin rpy="0 0 0" xyz="0 0 0"/>
      <inertia ixx="1e-6" ixy="0" ixz="0" iyy="1e-6" iyz="0" izz="1e-6"/>
    </inertial>
  </link>
  <joint name="camera_optical_joint_chin" type="fixed">
    <origin rpy="-1.57079632679 0 -1.57079632679" xyz="0 0 0"/>
    <parent link="camera_chin"/>
    <child link="camera_optical_chin"/>
  </joint>
  <link name="camera_optical_chin">
        </link>
  <gazebo reference="camera_chin">
    <!-- <material>Gazebo/Black</material> -->
    <sensor name="camera_chin_camera" type="depth">
      <update_rate>16</update_rate>
      <camera>
        <horizontal_fov>2.094</horizontal_fov>
        <image>
          <width>928</width>
          <height>800</height>
          <format>R8G8B8</format>
        </image>
        <clip>
          <near>0.1</near>
          <far>5</far>
        </clip>
      </camera>
      <plugin filename="libgazebo_ros_openni_kinect.so" name="camera_chin_controller">
        <baseline>0.025</baseline>
        <alwaysOn>true</alwaysOn>
        <updateRate>0.0</updateRate>
        <cameraName>camera_chin_ir</cameraName>
        <imageTopicName>/camera_chin/color/image_raw</imageTopicName>
        <cameraInfoTopicName>/camera_chin/color/camera_info</cameraInfoTopicName>
        <depthImageTopicName>/camera_chin/depth/image_raw</depthImageTopicName>
        <depthImageInfoTopicName>/camera_chin/depth/camera_info</depthImageInfoTopicName>
        <!-- <pointCloudTopicName>/camera_${name}/depth/points</pointCloudTopicName> -->
        <pointCloudTopicName>/cam2/point_cloud_chin</pointCloudTopicName>
        <frameName>camera_optical_chin</frameName>
        <pointCloudCutoff>0.1</pointCloudCutoff>
        <pointCloudCutoffMax>1.5</pointCloudCutoffMax>
        <distortionK1>0.0</distortionK1>
        <distortionK2>0.0</distortionK2>
        <distortionK3>0.0</distortionK3>
        <distortionT1>0.0</distortionT1>
        <distortionT2>0.0</distortionT2>
        <CxPrime>0</CxPrime>
        <Cx>0.0045</Cx>
        <Cy>0.0039</Cy>
        <focalLength>0</focalLength>
        <hackBaseline>0</hackBaseline>
      </plugin>
    </sensor>
  </gazebo>
  <joint name="camera_joint_left" type="fixed">
    <origin rpy="3.14159265359 0.2618 1.57079632679" xyz="-0.066 0.082 -0.0176"/>
    <parent link="trunk"/>
    <child link="camera_left"/>
  </joint>
  <link name="camera_left">
    <collision>
      <origin rpy="0 0 0" xyz="0 0 0"/>
      <geometry>
        <box size=".001 .001 .001"/>
      </geometry>
    </collision>
    <visual>
      <origin rpy="0 0 0" xyz="0 0 0"/>
      <geometry>
        <mesh filename="package://meshes/depthCamera.dae" scale="1 1 1"/>
      </geometry>
    </visual>
    <inertial>
      <mass value="1e-5"/>
      <origin rpy="0 0 0" xyz="0 0 0"/>
      <inertia ixx="1e-6" ixy="0" ixz="0" iyy="1e-6" iyz="0" izz="1e-6"/>
    </inertial>
  </link>
  <joint name="camera_optical_joint_left" type="fixed">
    <origin rpy="-1.57079632679 0 -1.57079632679" xyz="0 0 0"/>
    <parent link="camera_left"/>
    <child link="camera_optical_left"/>
  </joint>
  <link name="camera_optical_left">
        </link>
  <gazebo reference="camera_left">
    <!-- <material>Gazebo/Black</material> -->
    <sensor name="camera_left_camera" type="depth">
      <update_rate>16</update_rate>
      <camera>
        <horizontal_fov>2.094</horizontal_fov>
        <image>
          <width>928</width>
          <height>800</height>
          <format>R8G8B8</format>
        </image>
        <clip>
          <near>0.1</near>
          <far>5</far>
        </clip>
      </camera>
      <plugin filename="libgazebo_ros_openni_kinect.so" name="camera_left_controller">
        <baseline>0.025</baseline>
        <alwaysOn>true</alwaysOn>
        <updateRate>0.0</updateRate>
        <cameraName>camera_left_ir</cameraName>
        <imageTopicName>/camera_left/color/image_raw</imageTopicName>
        <cameraInfoTopicName>/camera_left/color/camera_info</cameraInfoTopicName>
        <depthImageTopicName>/camera_left/depth/image_raw</depthImageTopicName>
        <depthImageInfoTopicName>/camera_left/depth/camera_info</depthImageInfoTopicName>
        <!-- <pointCloudTopicName>/camera_${name}/depth/points</pointCloudTopicName> -->
        <pointCloudTopicName>/cam3/point_cloud_left</pointCloudTopicName>
        <frameName>camera_optical_left</frameName>
        <pointCloudCutoff>0.1</pointCloudCutoff>
        <pointCloudCutoffMax>1.5</pointCloudCutoffMax>
        <distortionK1>0.0</distortionK1>
        <distortionK2>0.0</distortionK2>
        <distortionK3>0.0</distortionK3>
        <distortionT1>0.0</distortionT1>
        <distortionT2>0.0</distortionT2>
        <CxPrime>0</CxPrime>
        <Cx>0.0045</Cx>
        <Cy>0.0039</Cy>
        <focalLength>0</focalLength>
        <hackBaseline>0</hackBaseline>
      </plugin>
    </sensor>
  </gazebo>
  <joint name="camera_joint_right" type="fixed">
    <origin rpy="3.14159265359 0.2618 -1.57079632679" xyz="-0.041 -0.082 -0.0176"/>
    <parent link="trunk"/>
    <child link="camera_right"/>
  </joint>
  <link name="camera_right">
    <collision>
      <origin rpy="0 0 0" xyz="0 0 0"/>
      <geometry>
        <box size=".001 .001 .001"/>
      </geometry>
    </collision>
    <visual>
      <origin rpy="0 0 0" xyz="0 0 0"/>
      <geometry>
        <mesh filename="package://meshes/depthCamera.dae" scale="1 1 1"/>
      </geometry>
    </visual>
    <inertial>
      <mass value="1e-5"/>
      <origin rpy="0 0 0" xyz="0 0 0"/>
      <inertia ixx="1e-6" ixy="0" ixz="0" iyy="1e-6" iyz="0" izz="1e-6"/>
    </inertial>
  </link>
  <joint name="camera_optical_joint_right" type="fixed">
    <origin rpy="-1.57079632679 0 -1.57079632679" xyz="0 0 0"/>
    <parent link="camera_right"/>
    <child link="camera_optical_right"/>
  </joint>
  <link name="camera_optical_right">
        </link>
  <gazebo reference="camera_right">
    <!-- <material>Gazebo/Black</material> -->
    <sensor name="camera_right_camera" type="depth">
      <update_rate>16</update_rate>
      <camera>
        <horizontal_fov>2.094</horizontal_fov>
        <image>
          <width>928</width>
          <height>800</height>
          <format>R8G8B8</format>
        </image>
        <clip>
          <near>0.1</near>
          <far>5</far>
        </clip>
      </camera>
      <plugin filename="libgazebo_ros_openni_kinect.so" name="camera_right_controller">
        <baseline>0.025</baseline>
        <alwaysOn>true</alwaysOn>
        <updateRate>0.0</updateRate>
        <cameraName>camera_right_ir</cameraName>
        <imageTopicName>/camera_right/color/image_raw</imageTopicName>
        <cameraInfoTopicName>/camera_right/color/camera_info</cameraInfoTopicName>
        <depthImageTopicName>/camera_right/depth/image_raw</depthImageTopicName>
        <depthImageInfoTopicName>/camera_right/depth/camera_info</depthImageInfoTopicName>
        <!-- <pointCloudTopicName>/camera_${name}/depth/points</pointCloudTopicName> -->
        <pointCloudTopicName>/cam4/point_cloud_right</pointCloudTopicName>
        <frameName>camera_optical_right</frameName>
        <pointCloudCutoff>0.1</pointCloudCutoff>
        <pointCloudCutoffMax>1.5</pointCloudCutoffMax>
        <distortionK1>0.0</distortionK1>
        <distortionK2>0.0</distortionK2>
        <distortionK3>0.0</distortionK3>
        <distortionT1>0.0</distortionT1>
        <distortionT2>0.0</distortionT2>
        <CxPrime>0</CxPrime>
        <Cx>0.0045</Cx>
        <Cy>0.0039</Cy>
        <focalLength>0</focalLength>
        <hackBaseline>0</hackBaseline>
      </plugin>
    </sensor>
  </gazebo>
  <joint name="camera_joint_rearDown" type="fixed">
    <origin rpy="3.14159265359 1.57079632679 0" xyz="-0.0825 0.0125 -0.04365"/>
    <parent link="trunk"/>
    <child link="camera_rearDown"/>
  </joint>
  <link name="camera_rearDown">
    <collision>
      <origin rpy="0 0 0" xyz="0 0 0"/>
      <geometry>
        <box size=".001 .001 .001"/>
      </geometry>
    </collision>
    <visual>
      <origin rpy="0 0 0" xyz="0 0 0"/>
      <geometry>
        <mesh filename="package://meshes/depthCamera.dae" scale="1 1 1"/>
      </geometry>
    </visual>
    <inertial>
      <mass value="1e-5"/>
      <origin rpy="0 0 0" xyz="0 0 0"/>
      <inertia ixx="1e-6" ixy="0" ixz="0" iyy="1e-6" iyz="0" izz="1e-6"/>
    </inertial>
  </link>
  <joint name="camera_optical_joint_rearDown" type="fixed">
    <origin rpy="-1.57079632679 0 -1.57079632679" xyz="0 0 0"/>
    <parent link="camera_rearDown"/>
    <child link="camera_optical_rearDown"/>
  </joint>
  <link name="camera_optical_rearDown">
        </link>
  <gazebo reference="camera_rearDown">
    <!-- <material>Gazebo/Black</material> -->
    <sensor name="camera_rearDown_camera" type="depth">
      <update_rate>16</update_rate>
      <camera>
        <horizontal_fov>2.094</horizontal_fov>
        <image>
          <width>928</width>
          <height>800</height>
          <format>R8G8B8</format>
        </image>
        <clip>
          <near>0.1</near>
          <far>5</far>
        </clip>
      </camera>
      <plugin filename="libgazebo_ros_openni_kinect.so" name="camera_rearDown_controller">
        <baseline>0.025</baseline>
        <alwaysOn>true</alwaysOn>
        <updateRate>0.0</updateRate>
        <cameraName>camera_rearDown_ir</cameraName>
        <imageTopicName>/camera_rearDown/color/image_raw</imageTopicName>
        <cameraInfoTopicName>/camera_rearDown/color/camera_info</cameraInfoTopicName>
        <depthImageTopicName>/camera_rearDown/depth/image_raw</depthImageTopicName>
        <depthImageInfoTopicName>/camera_rearDown/depth/camera_info</depthImageInfoTopicName>
        <!-- <pointCloudTopicName>/camera_${name}/depth/points</pointCloudTopicName> -->
        <pointCloudTopicName>/cam5/point_cloud_rearDown</pointCloudTopicName>
        <frameName>camera_optical_rearDown</frameName>
        <pointCloudCutoff>0.1</pointCloudCutoff>
        <pointCloudCutoffMax>1.5</pointCloudCutoffMax>
        <distortionK1>0.0</distortionK1>
        <distortionK2>0.0</distortionK2>
        <distortionK3>0.0</distortionK3>
        <distortionT1>0.0</distortionT1>
        <distortionT2>0.0</distortionT2>
        <CxPrime>0</CxPrime>
        <Cx>0.0045</Cx>
        <Cy>0.0039</Cy>
        <focalLength>0</focalLength>
        <hackBaseline>0</hackBaseline>
      </plugin>
    </sensor>
  </gazebo>
  <joint name="camera_laserscan_joint_left" type="fixed">
    <origin rpy="0 0.2618 0" xyz="0 0 0"/>
    <parent link="camera_left"/>
    <child link="camera_laserscan_link_left"/>
  </joint>
  <link name="camera_laserscan_link_left">
    </link>
  <joint name="camera_laserscan_joint_right" type="fixed">
    <origin rpy="0 0.2618 0" xyz="0 0 0"/>
    <parent link="camera_right"/>
    <child link="camera_laserscan_link_right"/>
  </joint>
  <link name="camera_laserscan_link_right">
    </link>
  <joint name="ultraSound_joint_left" type="fixed">
    <origin rpy="0 0.2618 1.57079632679" xyz="-0.0535  0.0826 0.00868"/>
    <parent link="trunk"/>
    <child link="ultraSound_left"/>
  </joint>
  <link name="ultraSound_left">
    <collision>
      <origin rpy="0 0 0" xyz="0 0 0"/>
      <geometry>
        <box size=".001 .001 .001"/>
      </geometry>
    </collision>
    <visual>
      <origin rpy="0 0 0" xyz="0 0 0"/>
      <geometry>
        <mesh filename="package://meshes/ultraSound.dae" scale="1 1 1"/>
      </geometry>
      <material name="black"/>
    </visual>
    <inertial>
      <mass value="1e-5"/>
      <origin rpy="0 0 0" xyz="0 0 0"/>
      <inertia ixx="1e-6" ixy="0" ixz="0" iyy="1e-6" iyz="0" izz="1e-6"/>
    </inertial>
  </link>
  <joint name="ultraSound_joint_right" type="fixed">
    <origin rpy="0 0.2618 -1.57079632679" xyz="-0.0535 -0.0826 0.00868"/>
    <parent link="trunk"/>
    <child link="ultraSound_right"/>
  </joint>
  <link name="ultraSound_right">
    <collision>
      <origin rpy="0 0 0" xyz="0 0 0"/>
      <geometry>
        <box size=".001 .001 .001"/>
      </geometry>
    </collision>
    <visual>
      <origin rpy="0 0 0" xyz="0 0 0"/>
      <geometry>
        <mesh filename="package://meshes/ultraSound.dae" scale="1 1 1"/>
      </geometry>
      <material name="black"/>
    </visual>
    <inertial>
      <mass value="1e-5"/>
      <origin rpy="0 0 0" xyz="0 0 0"/>
      <inertia ixx="1e-6" ixy="0" ixz="0" iyy="1e-6" iyz="0" izz="1e-6"/>
    </inertial>
  </link>
  <joint name="ultraSound_joint_face" type="fixed">
    <origin rpy="0 0 0" xyz="0.2747 0.0 -0.0088"/>
    <parent link="trunk"/>
    <child link="ultraSound_face"/>
  </joint>
  <link name="ultraSound_face">
    <collision>
      <origin rpy="0 0 0" xyz="0 0 0"/>
      <geometry>
        <box size=".001 .001 .001"/>
      </geometry>
    </collision>
    <visual>
      <origin rpy="0 0 0" xyz="0 0 0"/>
      <geometry>
        <mesh filename="package://meshes/ultraSound.dae" scale="1 1 1"/>
      </geometry>
      <material name="black"/>
    </visual>
    <inertial>
      <mass value="1e-5"/>
      <origin rpy="0 0 0" xyz="0 0 0"/>
      <inertia ixx="1e-6" ixy="0" ixz="0" iyy="1e-6" iyz="0" izz="1e-6"/>
    </inertial>
  </link>
</robot>
